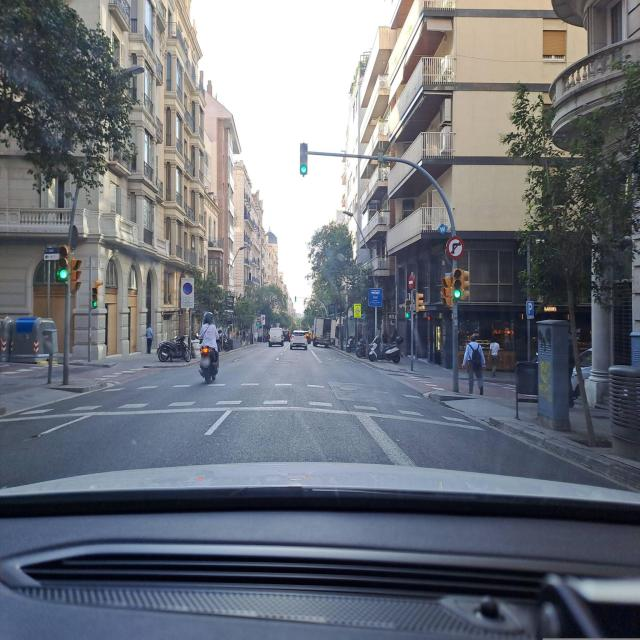bike: (198, 338, 221, 383), (157, 335, 192, 362), (368, 338, 401, 364), (355, 336, 367, 358), (344, 332, 356, 354)
car: (290, 330, 308, 350), (268, 327, 284, 347), (303, 329, 312, 344), (282, 329, 292, 341)
